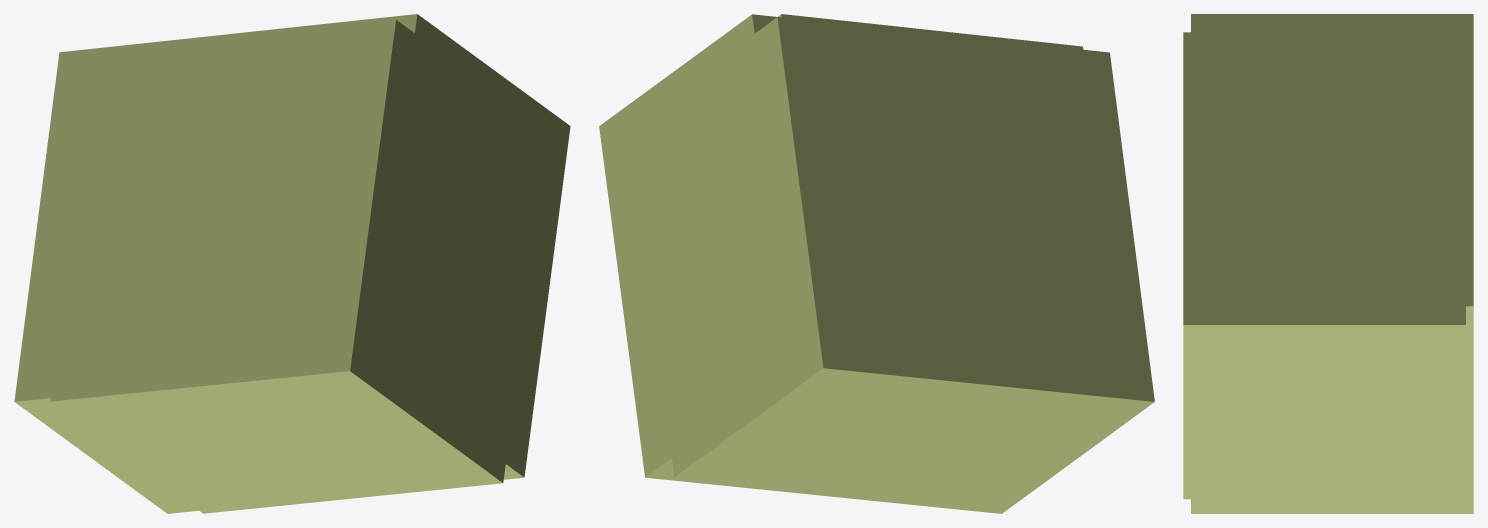
3 renders of one model, left to right at view 1: azimuth 30°, elevation 25°; view 2: azimuth 150°, elevation 25°; view 3: azimuth 270°, elevation 25°, orthographic. The views are drawn at different scales.
Visible parts, largest first — view 1: 0_1_3_2_1_2_1_2_2_2; view 2: 0_1_3_2_1_2_1_2_2_2; view 3: 0_1_3_2_1_2_1_2_2_2.
Boxes of the visible parts, x1=… form: 0_1_3_2_1_2_1_2_2_2: x1=14, y1=14, x2=570, y2=513; 0_1_3_2_1_2_1_2_2_2: x1=599, y1=14, x2=1154, y2=513; 0_1_3_2_1_2_1_2_2_2: x1=1183, y1=14, x2=1473, y2=513.
Size of the model in its own units: 13.67 by 12.62 by 9.24.
